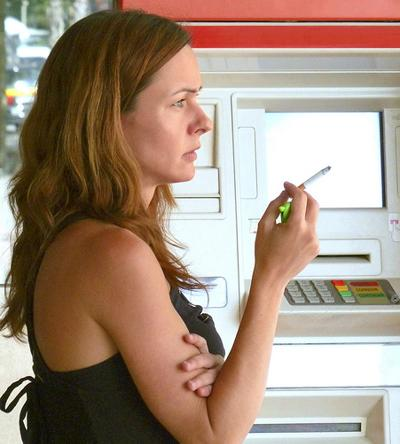person: (13, 10, 318, 444)
